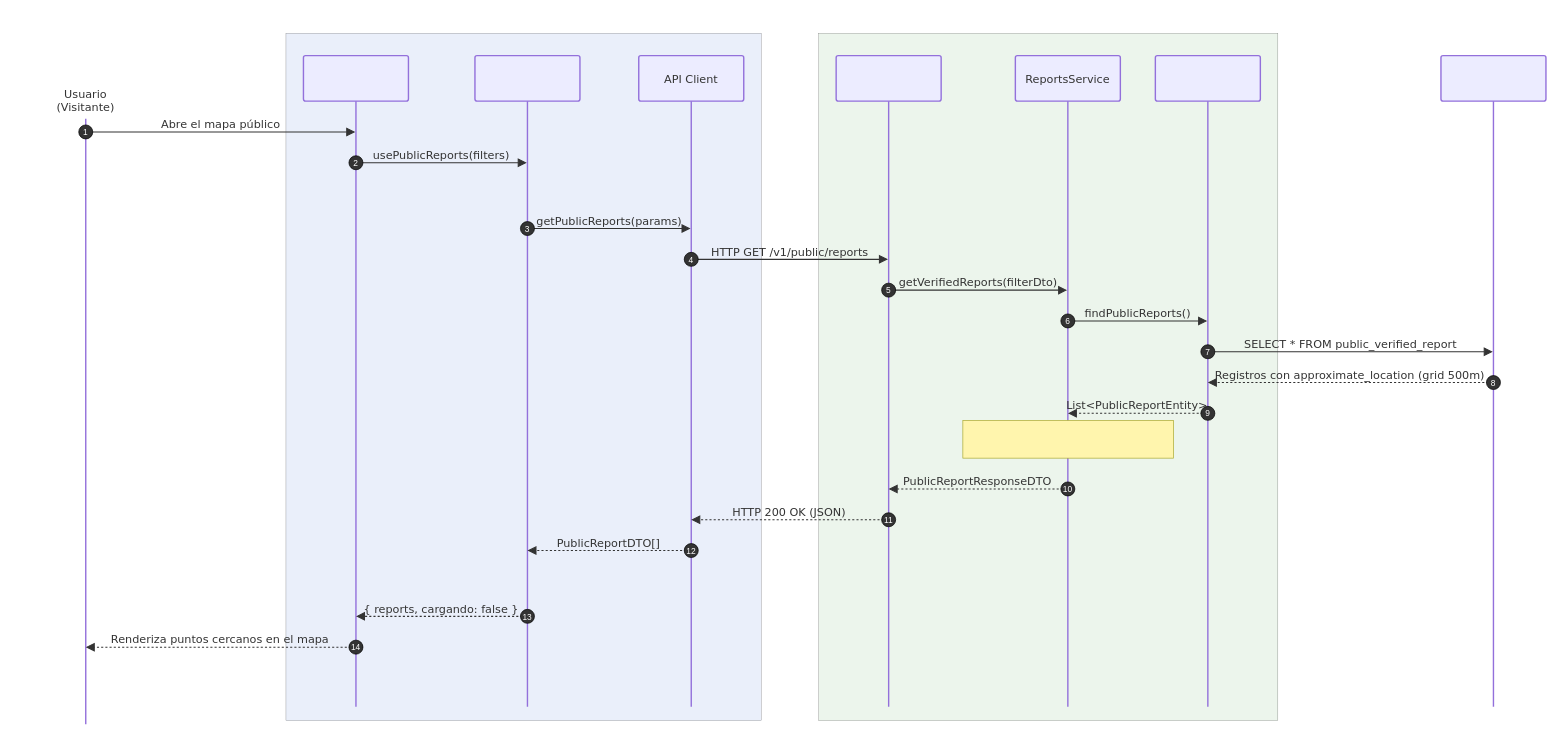
This 1558x736 diagram has some shape labels left out. Here are the shapes that lost their labels. From the top down, the box of each, then its label:
(302, 55, 409, 707): PublicMapScreen
(285, 33, 761, 721): Frontend (React Native)
(474, 55, 580, 707): usePublicReports
(835, 55, 941, 707): PublicReportsController
(818, 33, 1278, 721): Backend (Spring Boot)
(1154, 55, 1261, 707): PublicReportRepository
(1440, 55, 1546, 707): BD
(962, 420, 1174, 458): Mapeo a PublicReportDTO[] (Sin PII, sin fotos, coord. aproximada)
